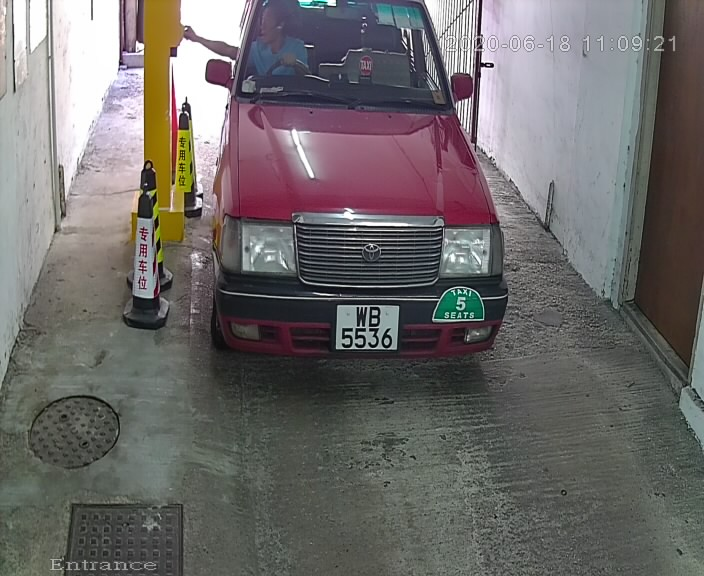taxi: (199, 2, 518, 387)
taxi_mark: (427, 279, 498, 330)
